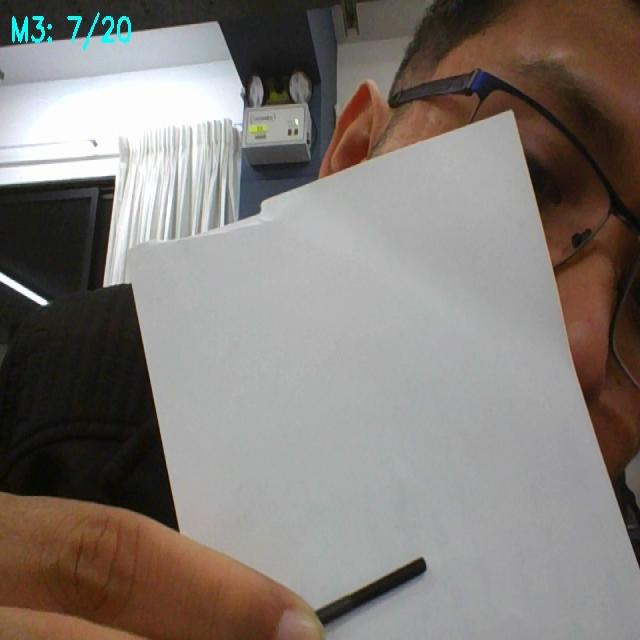vastago: (316, 557, 425, 624)
